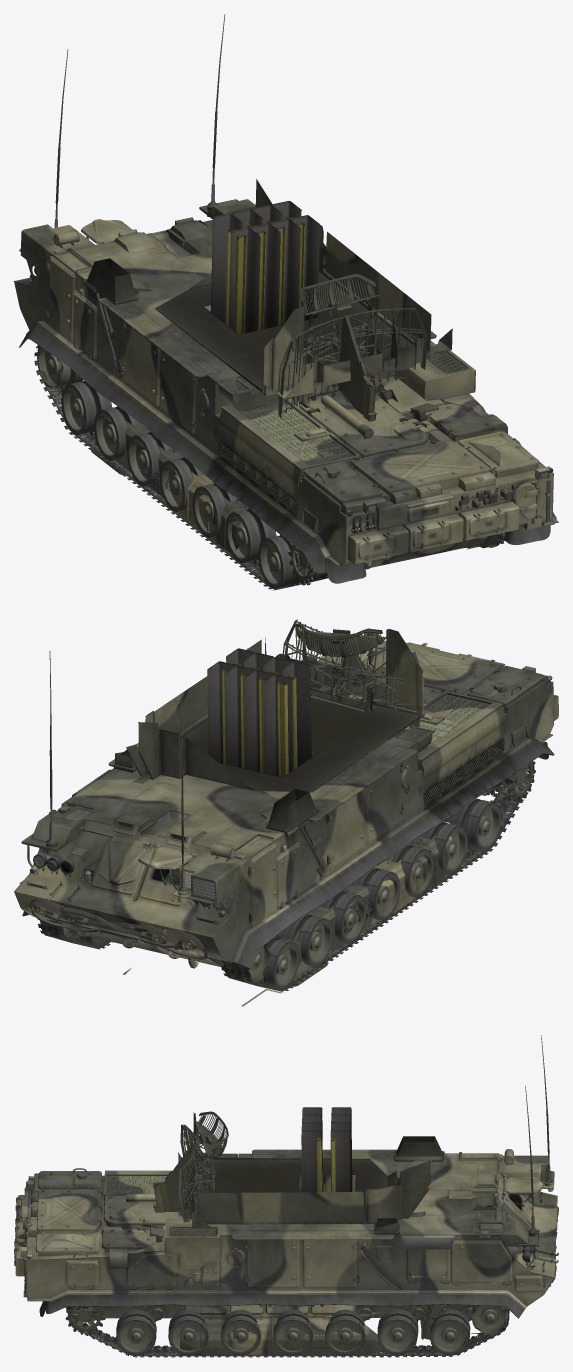
The model's file is tor.glb.
3 renders of one model, top to bottom at view 1: azimuth 30°, elevation 25°; view 2: azimuth 150°, elevation 25°; view 3: azimuth 270°, elevation 25°, orthographic. The views are drawn at different scales.
Visible parts, largest first — view 1: body|db25e93_dds, radar|db25e93_dds, body|625cab9_dds, turret|db25e93_dds, radar|625cab9_dds, body|f5419b8e_dds; view 2: body|db25e93_dds, radar|db25e93_dds, turret|db25e93_dds, body|f5419b8e_dds, body|625cab9_dds, radar|625cab9_dds; view 3: body|db25e93_dds, turret|db25e93_dds, radar|db25e93_dds, body|f5419b8e_dds, body|625cab9_dds, radar|625cab9_dds.
Part boxes in pixels (x1=…): body|db25e93_dds: x1=14, y1=14, x2=558, y2=588; radar|db25e93_dds: x1=278, y1=274, x2=438, y2=462; body|625cab9_dds: x1=115, y1=256, x2=467, y2=514; turret|db25e93_dds: x1=91, y1=418, x2=280, y2=553; radar|625cab9_dds: x1=284, y1=277, x2=417, y2=413; body|f5419b8e_dds: x1=34, y1=345, x2=505, y2=590; body|db25e93_dds: x1=14, y1=628, x2=558, y2=990; radar|db25e93_dds: x1=282, y1=619, x2=455, y2=756; turret|db25e93_dds: x1=122, y1=836, x2=451, y2=1006; body|f5419b8e_dds: x1=37, y1=761, x2=534, y2=992; body|625cab9_dds: x1=267, y1=694, x2=503, y2=825; radar|625cab9_dds: x1=291, y1=621, x2=409, y2=729; body|db25e93_dds: x1=14, y1=1035, x2=558, y2=1355; turret|db25e93_dds: x1=180, y1=1304, x2=478, y2=1355; radar|db25e93_dds: x1=136, y1=1111, x2=228, y2=1242; body|f5419b8e_dds: x1=67, y1=1306, x2=509, y2=1357; body|625cab9_dds: x1=107, y1=1151, x2=396, y2=1236; radar|625cab9_dds: x1=182, y1=1114, x2=226, y2=1219.
Size of the model in its own units: 3.62 by 4.78 by 8.86.
9 materials, 9 textured.
